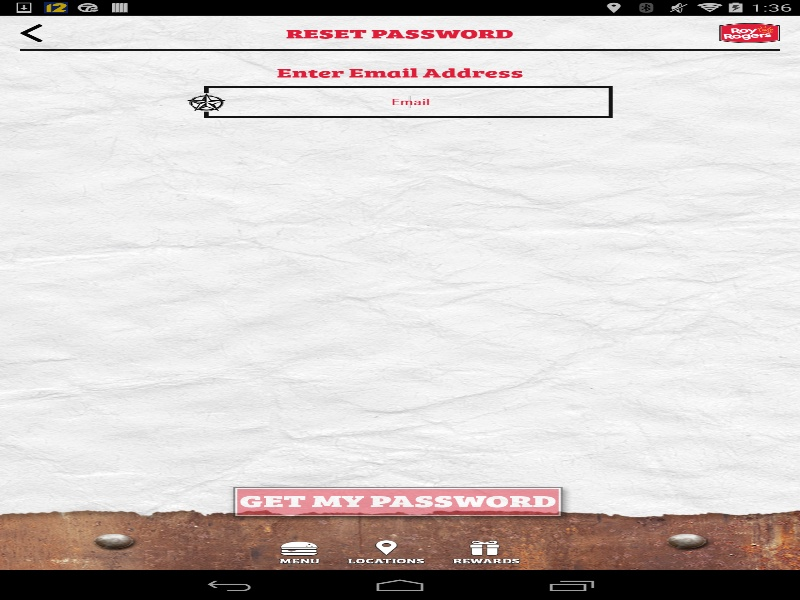Input: (201, 86, 612, 117)
